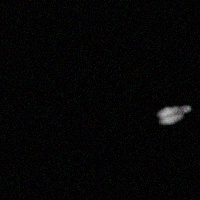chromosome: (158, 103, 192, 124)
